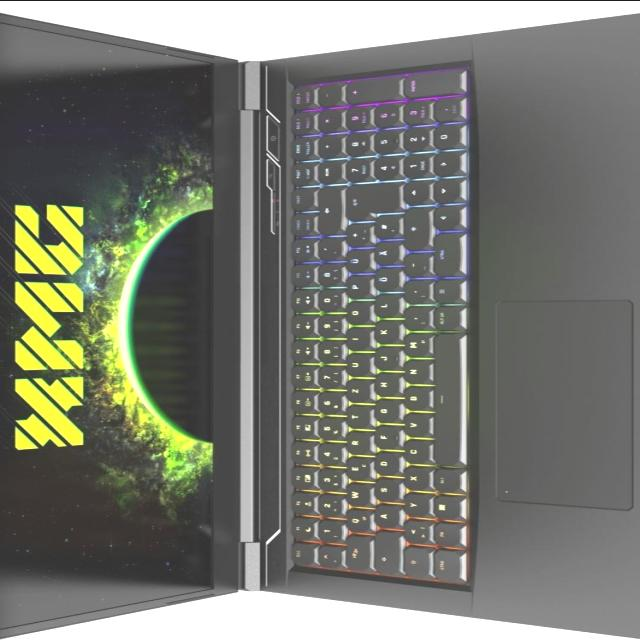0: (312, 291, 340, 313)
1: (313, 522, 342, 544)
2: (313, 497, 342, 519)
3: (312, 471, 342, 493)
4: (312, 445, 341, 467)
5: (312, 419, 341, 441)
6: (313, 393, 341, 415)
7: (313, 368, 341, 390)
8: (312, 342, 342, 364)
9: (312, 317, 341, 339)
a: (370, 507, 398, 530)
accent: (312, 240, 343, 262)
ae: (371, 242, 399, 266)
alt-left: (428, 470, 460, 493)
altgr-right: (428, 308, 460, 331)
b: (400, 388, 428, 412)
c: (400, 441, 428, 465)
caret: (312, 548, 340, 570)
comma: (400, 308, 428, 332)
d: (370, 454, 398, 477)
del: (314, 189, 340, 237)
e: (343, 459, 369, 481)
enter: (341, 185, 399, 223)
f: (372, 427, 400, 451)
g: (371, 401, 399, 424)
h: (370, 375, 398, 398)
hash: (370, 216, 398, 240)
i: (343, 329, 369, 351)
j: (371, 348, 399, 372)
k: (370, 322, 398, 346)
keyboard: (265, 58, 475, 594)
l: (370, 295, 398, 319)
less: (400, 524, 428, 546)
m: (399, 335, 429, 359)
minus: (400, 255, 428, 279)
n: (400, 362, 428, 386)
o: (343, 303, 369, 326)
oe: (371, 269, 399, 293)
p: (343, 277, 369, 300)
plus: (341, 225, 369, 248)
point: (400, 282, 428, 305)
q: (343, 511, 369, 534)
r: (343, 433, 369, 456)
s: (370, 480, 398, 503)
shift-left: (399, 548, 429, 580)
shift-lock: (370, 533, 398, 577)
shift-right: (400, 209, 428, 252)
space: (431, 335, 461, 468)
ss: (312, 266, 342, 288)
strg-left: (428, 550, 462, 585)
strg-right: (430, 233, 461, 277)
t: (342, 407, 368, 429)
tab: (340, 537, 368, 573)
u: (343, 355, 369, 378)
ue: (342, 251, 370, 275)
v: (400, 415, 428, 439)
w: (342, 485, 370, 508)
x: (401, 468, 427, 491)
y: (400, 495, 428, 519)
z: (343, 381, 369, 403)
